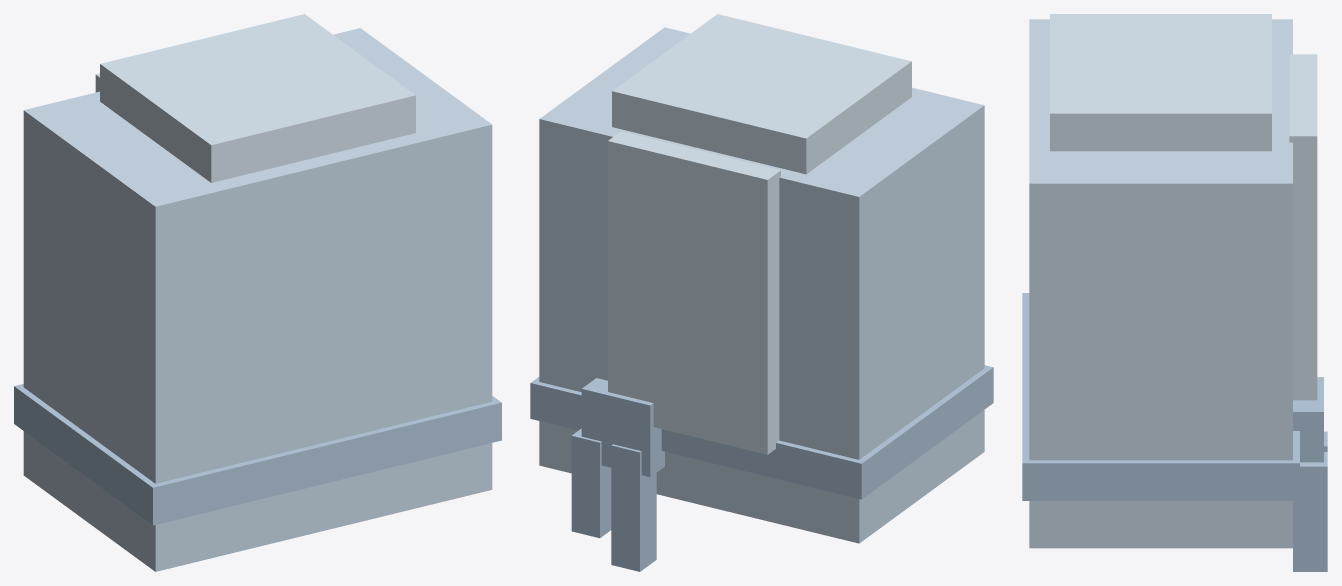
The model's file is roupao_tronco.glb.
The picture shows the model from 3 angles, left to right: view 1: azimuth 30°, elevation 25°; view 2: azimuth 150°, elevation 25°; view 3: azimuth 270°, elevation 25°; orthographic projection. The views are drawn at different scales.
Visible parts, largest first — view 1: roupao_tronco; view 2: roupao_tronco; view 3: roupao_tronco.
Part boxes in pixels (bbox=[...]): roupao_tronco: bbox=[14, 14, 501, 571]; roupao_tronco: bbox=[530, 14, 993, 571]; roupao_tronco: bbox=[1022, 14, 1327, 571].
Bounding box in the file's own units: 0.58 × 0.75 × 0.44.
